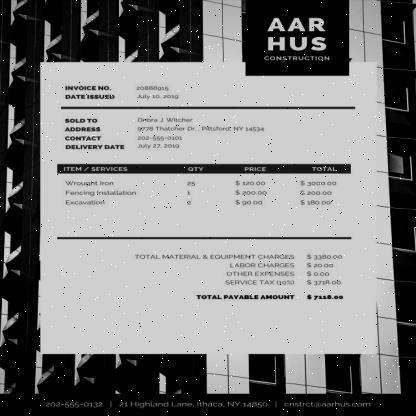Paragraph: (131, 252, 346, 302), (61, 114, 266, 153), (40, 399, 375, 410), (260, 14, 334, 63), (61, 83, 181, 101)
Table: (57, 164, 350, 214)
